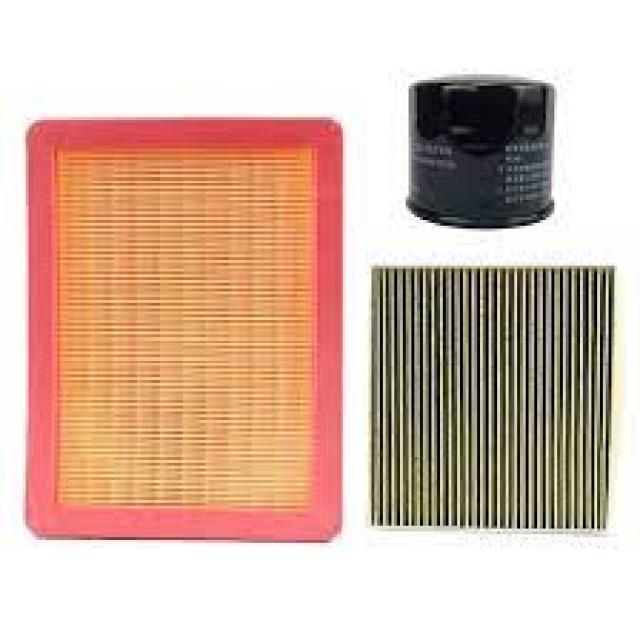air_filter: (13, 112, 348, 550), (368, 260, 624, 543)
oil_filter: (400, 66, 564, 231)
